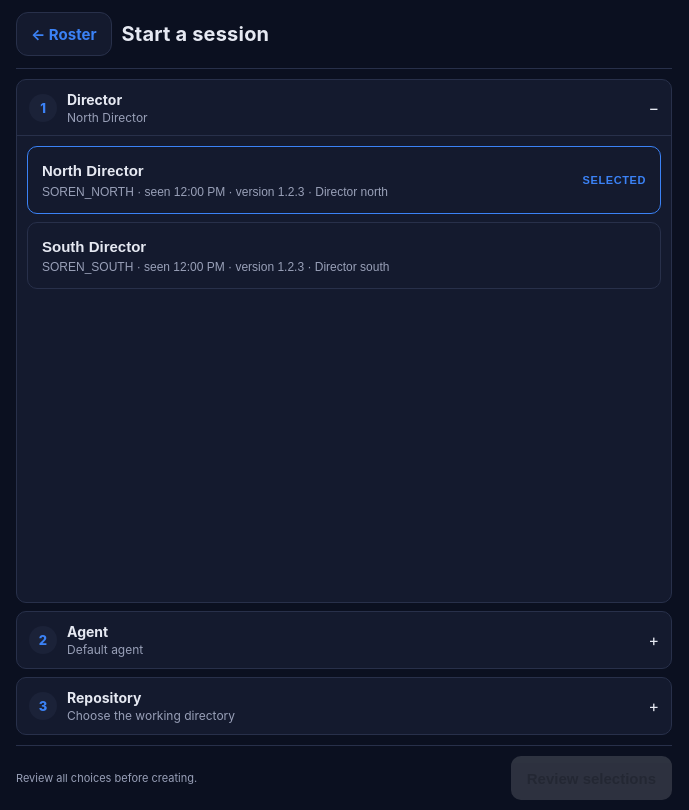
Test: mobile new session › allows recent repositories when history fails and reports the partial failure
Click the button with aria-label "Select Director North Director" at [93, 170], box [28, 147, 660, 212]
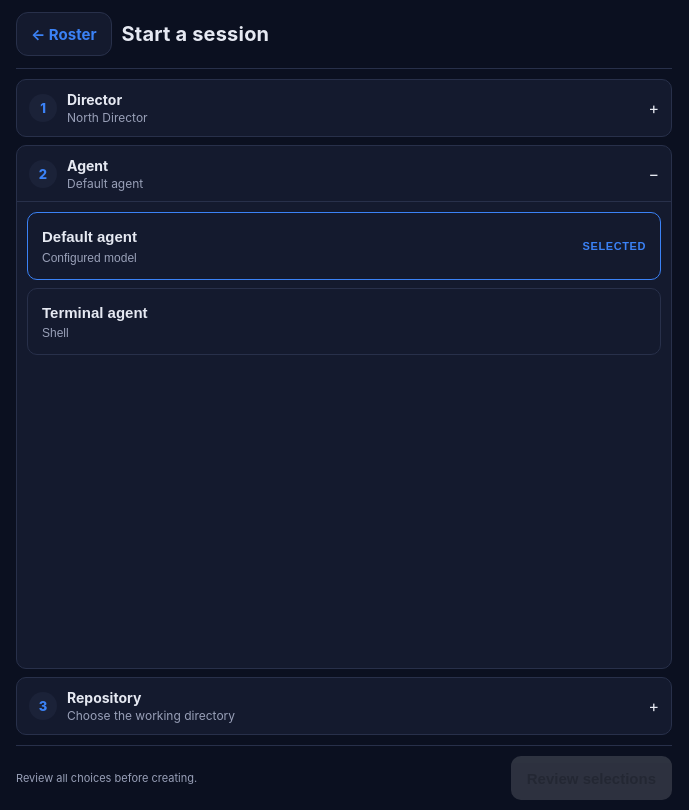
Click the button with aria-label "Select agent Terminal agent" at [95, 312], box [28, 288, 660, 354]
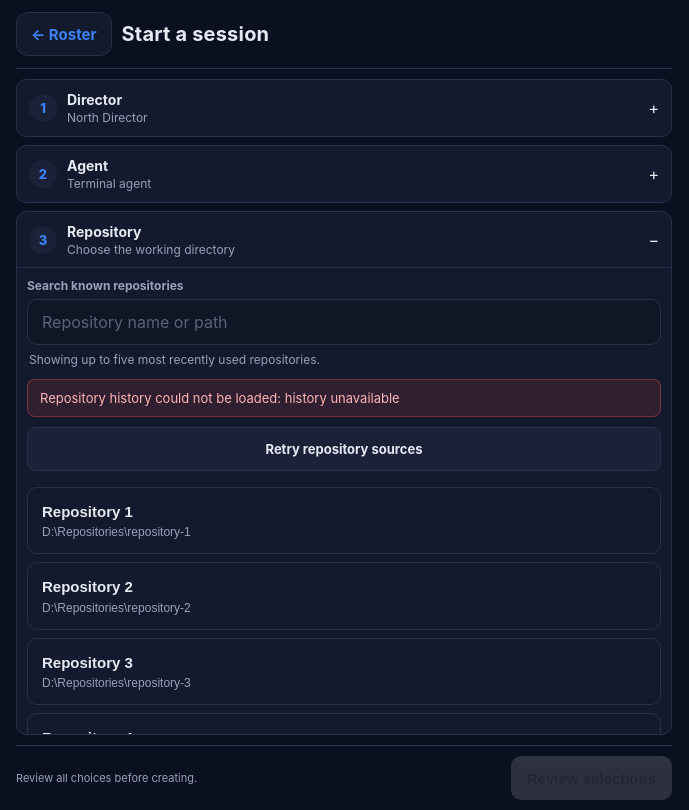
Now the search field labelled "Search known repositories" is shown, box [27, 299, 661, 345]
Now the message reads "Repository history could not be loaded: history unavailable", box [27, 379, 661, 417]
Now the button with aria-label "Select repository Repository 1" is shown, box [28, 488, 660, 553]
